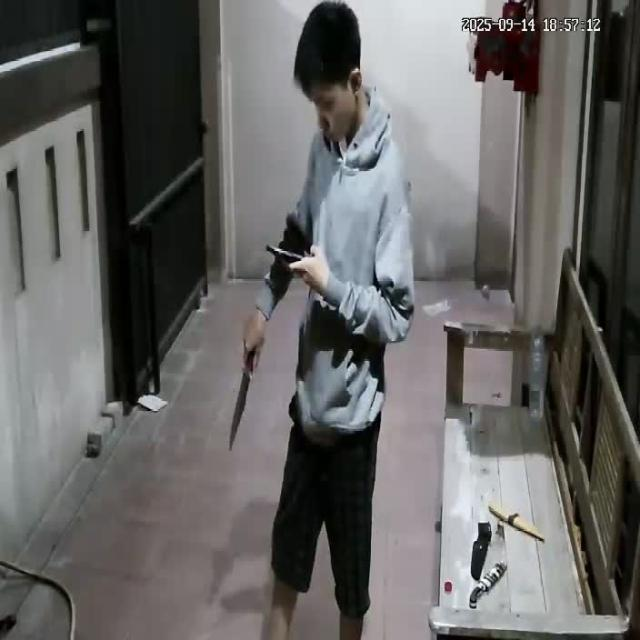senjata_tajam: (227, 364, 254, 450)
